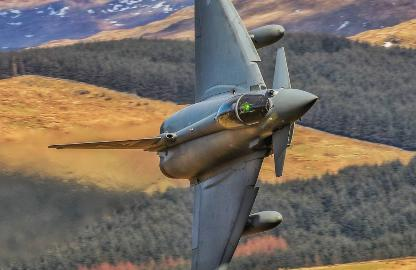E2: (47, 0, 318, 268)
